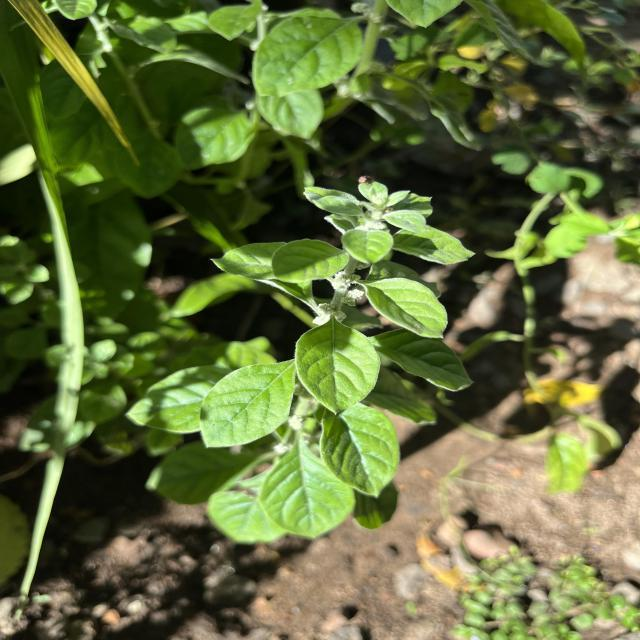Aerva lanata: (198, 358, 297, 451), (292, 317, 383, 417), (354, 276, 452, 342)
